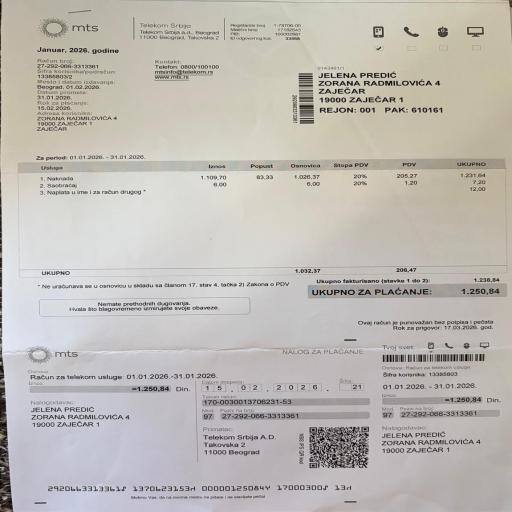mts: (33, 160, 498, 196)
mts_iznos: (307, 285, 505, 303)
mts_uplatnica: (381, 383, 507, 425)
